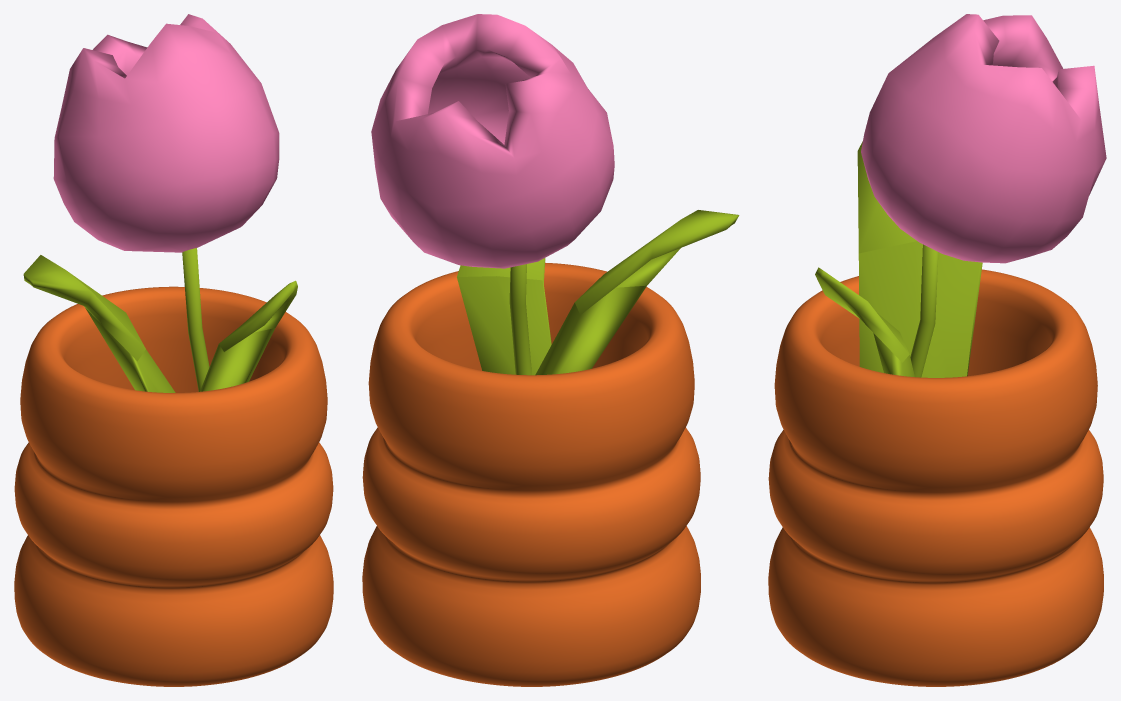
Rendered from Tulpan.glb.
3 views of the same model, side by side, from view 1: azimuth 30°, elevation 25°; view 2: azimuth 150°, elevation 25°; view 3: azimuth 270°, elevation 25° (orthographic). The views are drawn at different scales.
Visible parts, largest first — view 1: Cylinder, Cylinder.001, Plane.001, Plane.002, Cylinder.002; view 2: Cylinder, Cylinder.001, Plane.001, Plane.002, Cylinder.002; view 3: Cylinder, Cylinder.001, Plane.001, Plane.002, Cylinder.002.
Part boxes in pixels (x1,y1,x2,y2): Cylinder: (14, 286, 333, 686); Cylinder.001: (53, 14, 279, 252); Plane.001: (23, 255, 175, 392); Plane.002: (200, 280, 297, 391); Cylinder.002: (182, 248, 209, 391); Cylinder: (362, 262, 700, 686); Cylinder.001: (371, 14, 614, 268); Plane.001: (535, 210, 739, 375); Plane.002: (457, 258, 551, 375); Cylinder.002: (509, 264, 531, 375); Cylinder: (768, 269, 1103, 686); Cylinder.001: (861, 14, 1106, 263); Plane.001: (857, 141, 982, 377); Plane.002: (815, 267, 914, 376); Cylinder.002: (910, 244, 938, 377).
Bounding box in the file's own units: 2.2 × 4.05 × 1.99.
